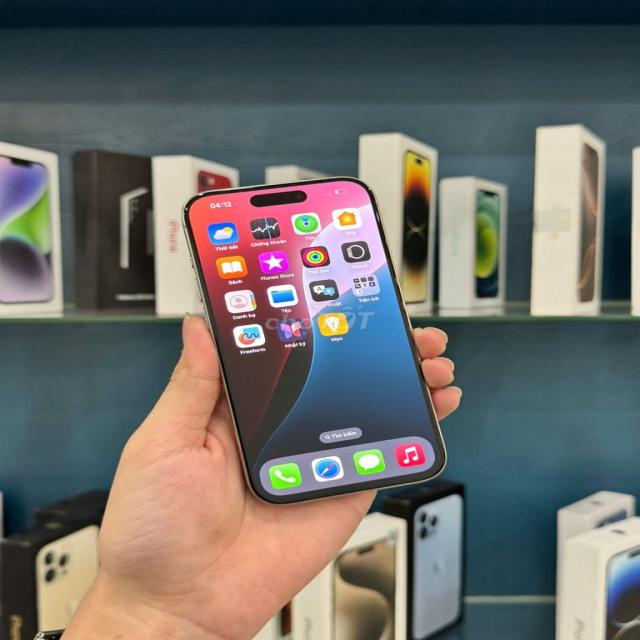gen_15: (171, 176, 456, 497)
